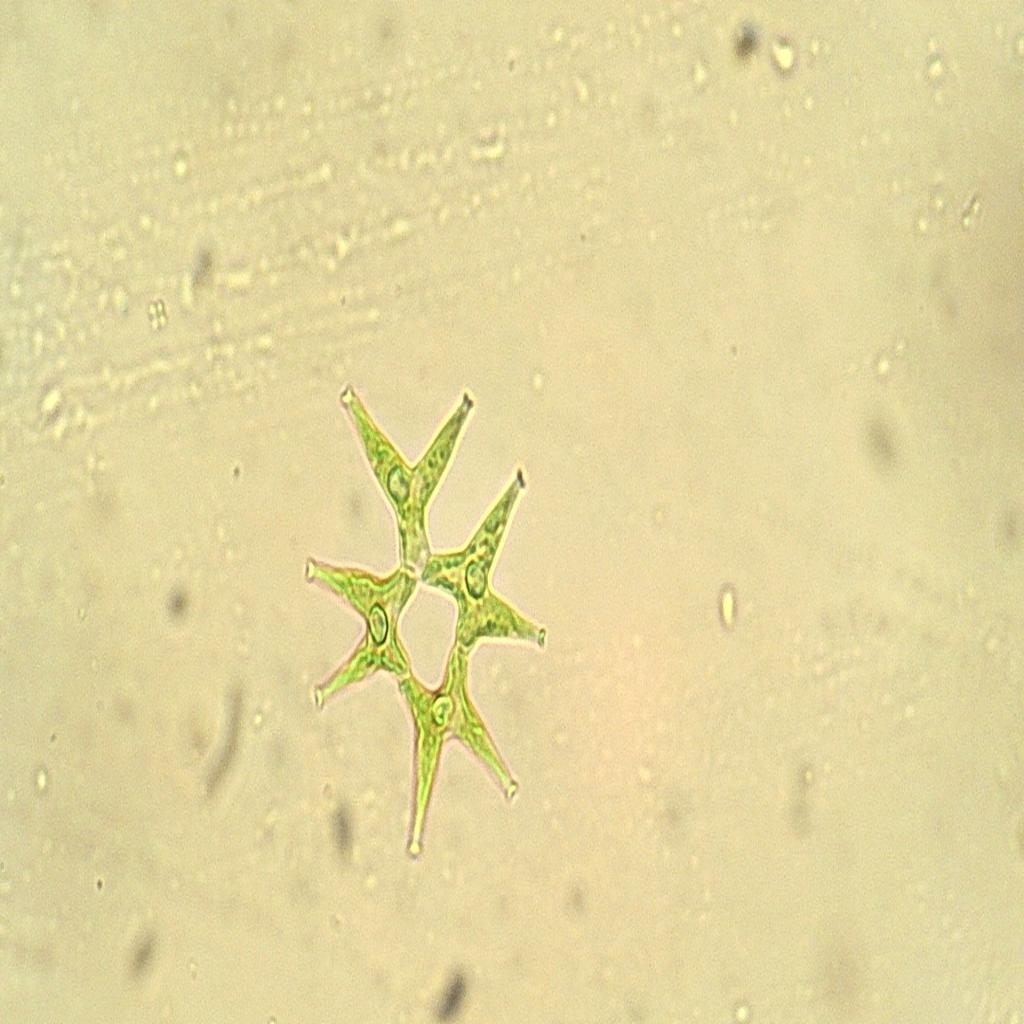Pediastrum_75FI: (290, 344, 564, 891)
